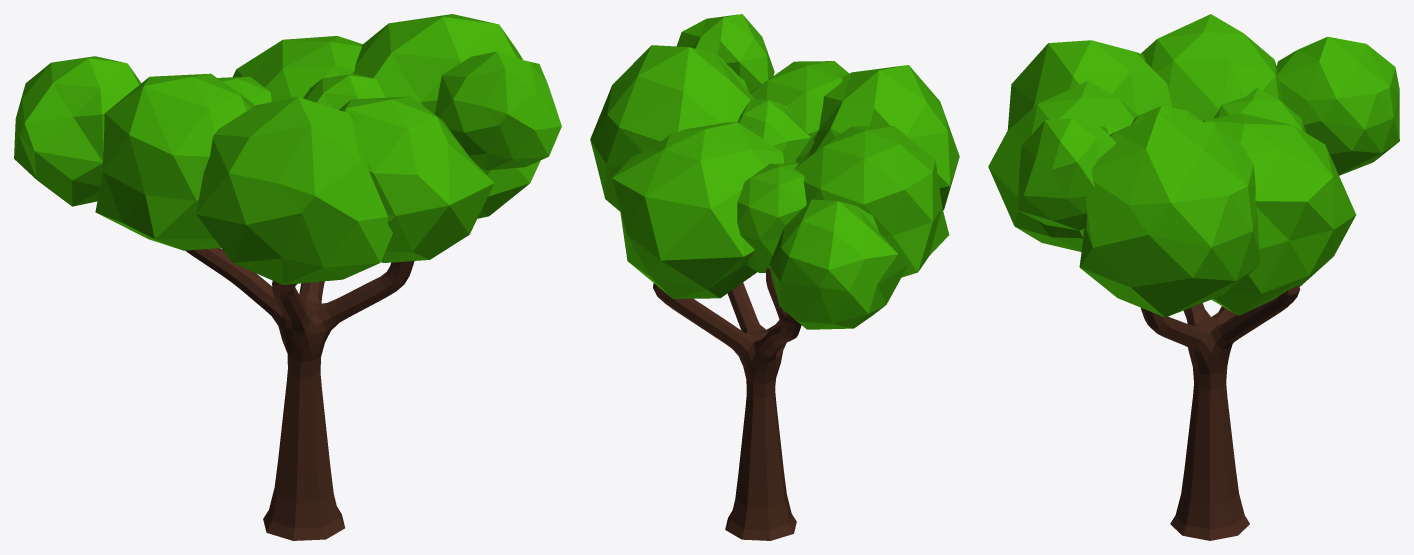
The model's file is LowPolyTree1.fbx.
3 renders of one model, left to right at view 1: azimuth 30°, elevation 25°; view 2: azimuth 150°, elevation 25°; view 3: azimuth 270°, elevation 25°, orthographic. The views are drawn at different scales.
Parts seen in each view (by area): view 1: Icosphere.002; view 2: Icosphere.002; view 3: Icosphere.002.
Part boxes in pixels (<box>): Icosphere.002: <box>14,14,561,540</box>; Icosphere.002: <box>590,14,959,540</box>; Icosphere.002: <box>988,14,1399,540</box>.
Bounding box in the file's own units: 456 × 525 × 424.
